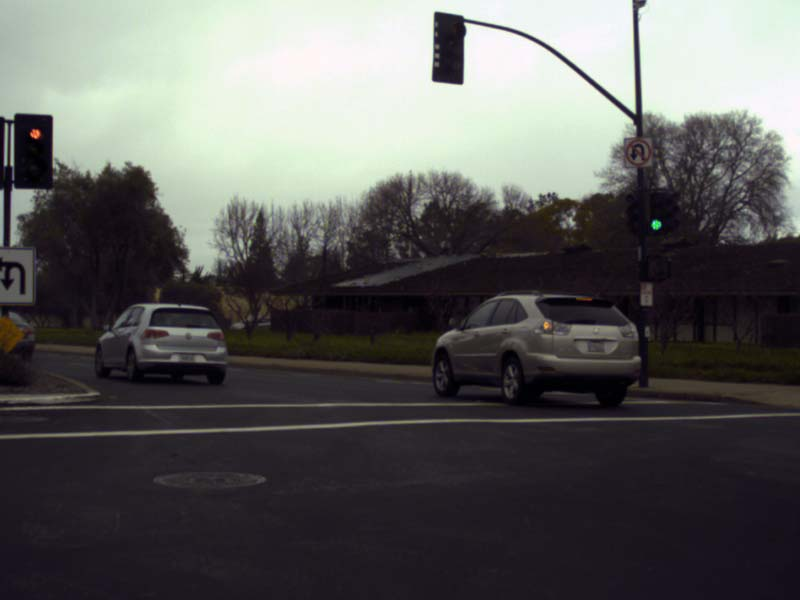Green: (644, 190, 667, 234)
Red: (17, 114, 51, 188), (435, 12, 464, 84)
